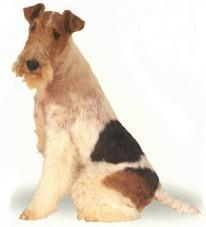wire-haired_fox_terrier: (10, 2, 202, 223)
